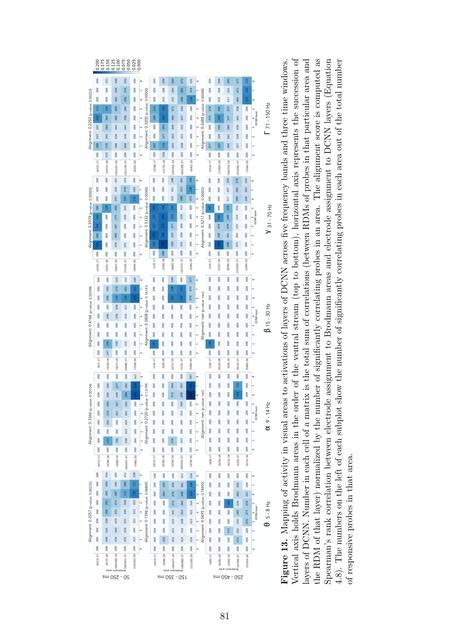box: (86, 56, 274, 584)
